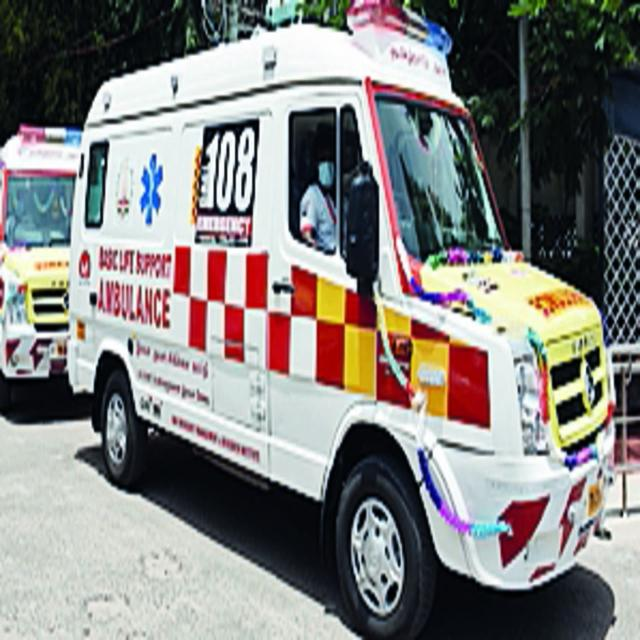ambulance: (69, 0, 616, 640), (2, 124, 84, 378)
